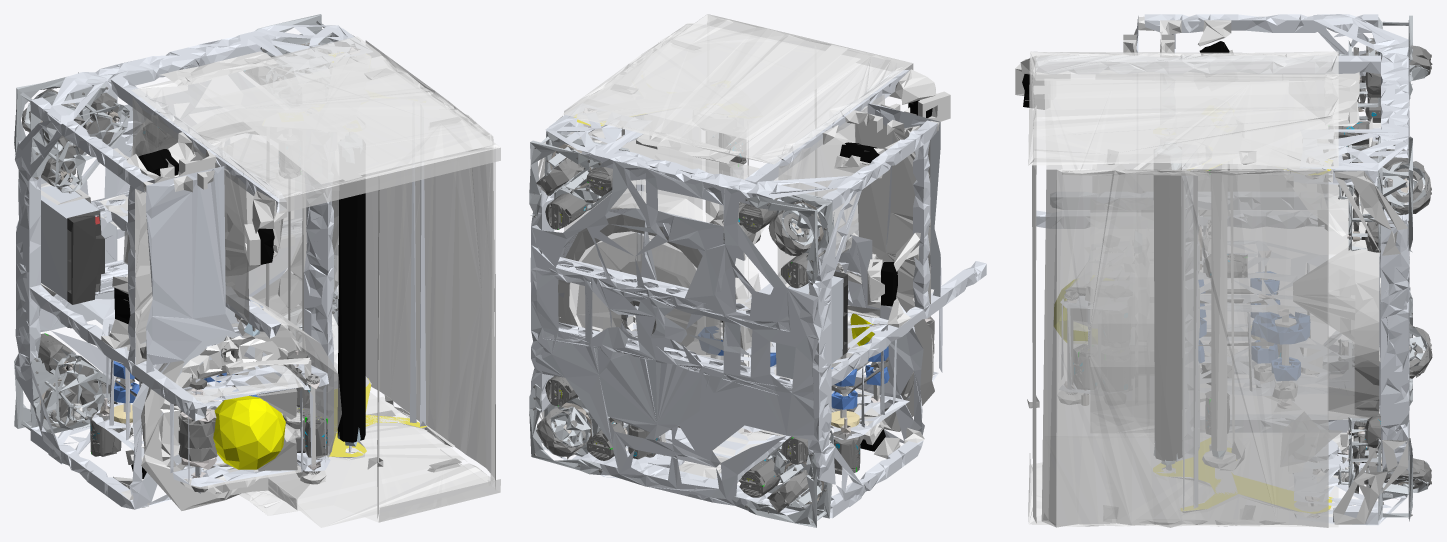
3 renders of one model, left to right at view 1: azimuth 30°, elevation 25°; view 2: azimuth 150°, elevation 25°; view 3: azimuth 270°, elevation 25°, orthographic. The views are drawn at different scales.
Parts seen in each view (by area): view 1: main_mesh, c1_mesh, c0_mesh, c2_mesh; view 2: main_mesh, c2_mesh, c0_mesh, c1_mesh; view 3: main_mesh, c0_mesh, c2_mesh, c1_mesh.
Part boxes in pixels (<box>): main_mesh: <box>14,14,500,527</box>; c1_mesh: <box>144,326,330,494</box>; c0_mesh: <box>265,52,427,460</box>; c2_mesh: <box>116,111,338,332</box>; main_mesh: <box>529,14,986,527</box>; c2_mesh: <box>558,190,760,428</box>; c0_mesh: <box>574,105,748,424</box>; c1_mesh: <box>831,270,942,400</box>; main_mesh: <box>1015,14,1432,527</box>; c0_mesh: <box>1153,150,1333,517</box>; c2_mesh: <box>1293,117,1380,419</box>; c1_mesh: <box>1054,247,1089,405</box>.
Bounding box in the file's own units: 0.6832 × 0.7286 × 0.7603.
